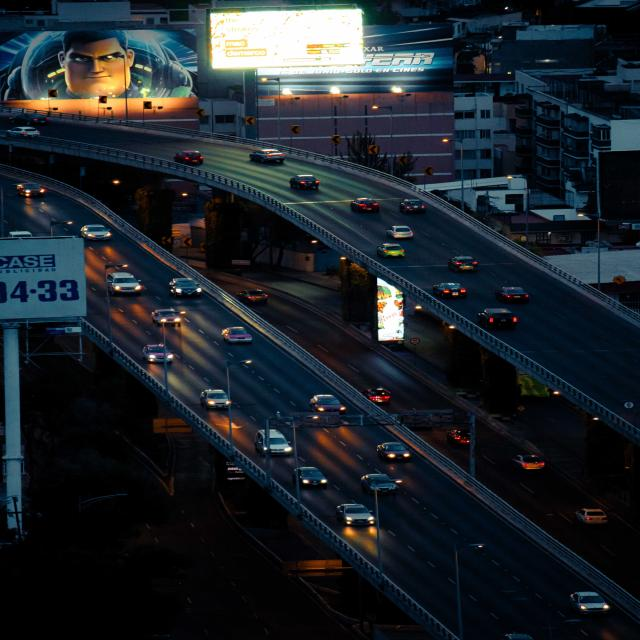car: (568, 590, 612, 615), (253, 429, 293, 456), (336, 503, 376, 526), (309, 394, 346, 418), (476, 308, 516, 328), (106, 272, 142, 294), (360, 474, 398, 494), (293, 467, 328, 488), (376, 442, 411, 461), (446, 429, 479, 449), (495, 286, 530, 304), (168, 278, 201, 297), (200, 389, 231, 409), (142, 343, 174, 362), (573, 508, 607, 524), (80, 224, 112, 241), (433, 282, 467, 298), (447, 255, 478, 272), (9, 113, 49, 126), (510, 455, 544, 470), (248, 149, 284, 163), (222, 327, 252, 343), (236, 289, 268, 304), (289, 174, 319, 190), (16, 182, 45, 198), (151, 309, 181, 324), (349, 198, 379, 213), (361, 388, 389, 404), (398, 198, 425, 214), (377, 243, 405, 258), (386, 225, 414, 240), (173, 150, 203, 164), (6, 127, 40, 138)
